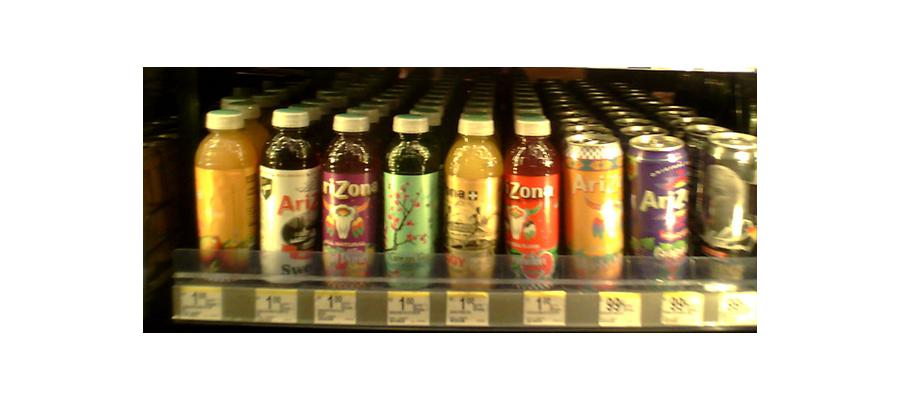bottle: (261, 102, 317, 282), (445, 107, 500, 284), (197, 110, 254, 280), (384, 112, 438, 288), (504, 112, 558, 286), (630, 131, 692, 281), (566, 120, 622, 284), (323, 109, 375, 283), (698, 124, 753, 274)
